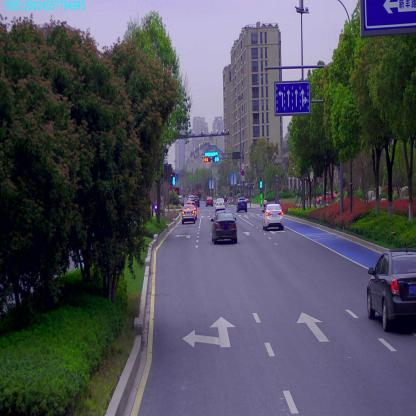traffic-light: (203, 150, 218, 156), (204, 156, 210, 162), (212, 157, 219, 162)
